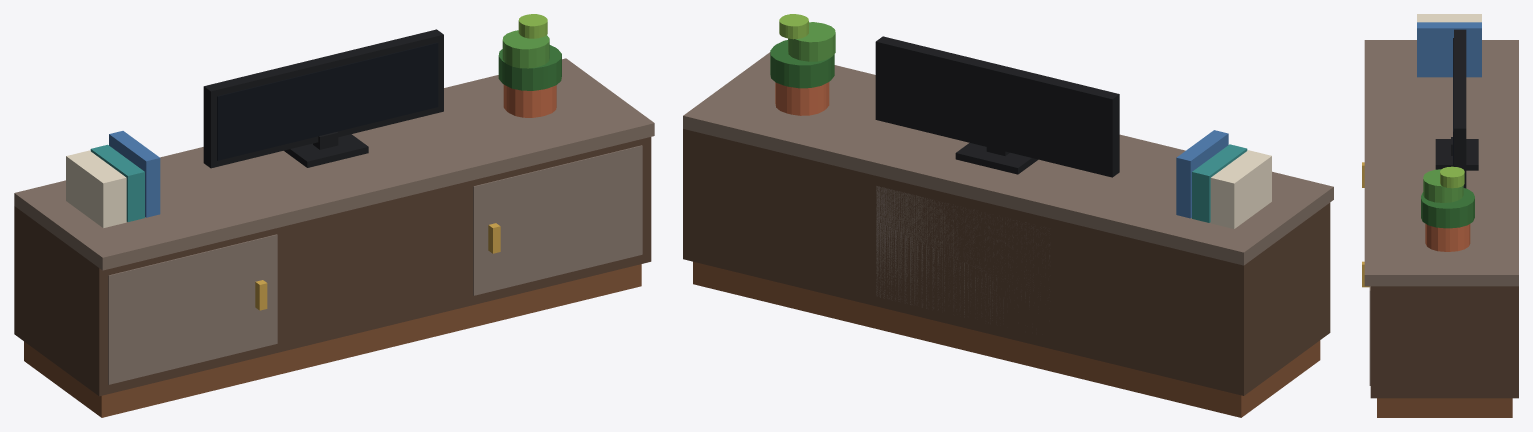
Rendered from tv_stand.glb.
3 views of the same model, side by side, from view 1: azimuth 30°, elevation 25°; view 2: azimuth 150°, elevation 25°; view 3: azimuth 270°, elevation 25° (orthographic). The views are drawn at different scales.
Parts seen in each view (by area): view 1: tv_stand_Body; view 2: tv_stand_Body; view 3: tv_stand_Body.
Part boxes in pixels (left/top/right/bottom): tv_stand_Body: left=14, top=14, right=654, bottom=417; tv_stand_Body: left=683, top=14, right=1333, bottom=417; tv_stand_Body: left=1362, top=14, right=1518, bottom=417.
Size of the model in its own units: 1.8 by 0.8 by 0.508.
